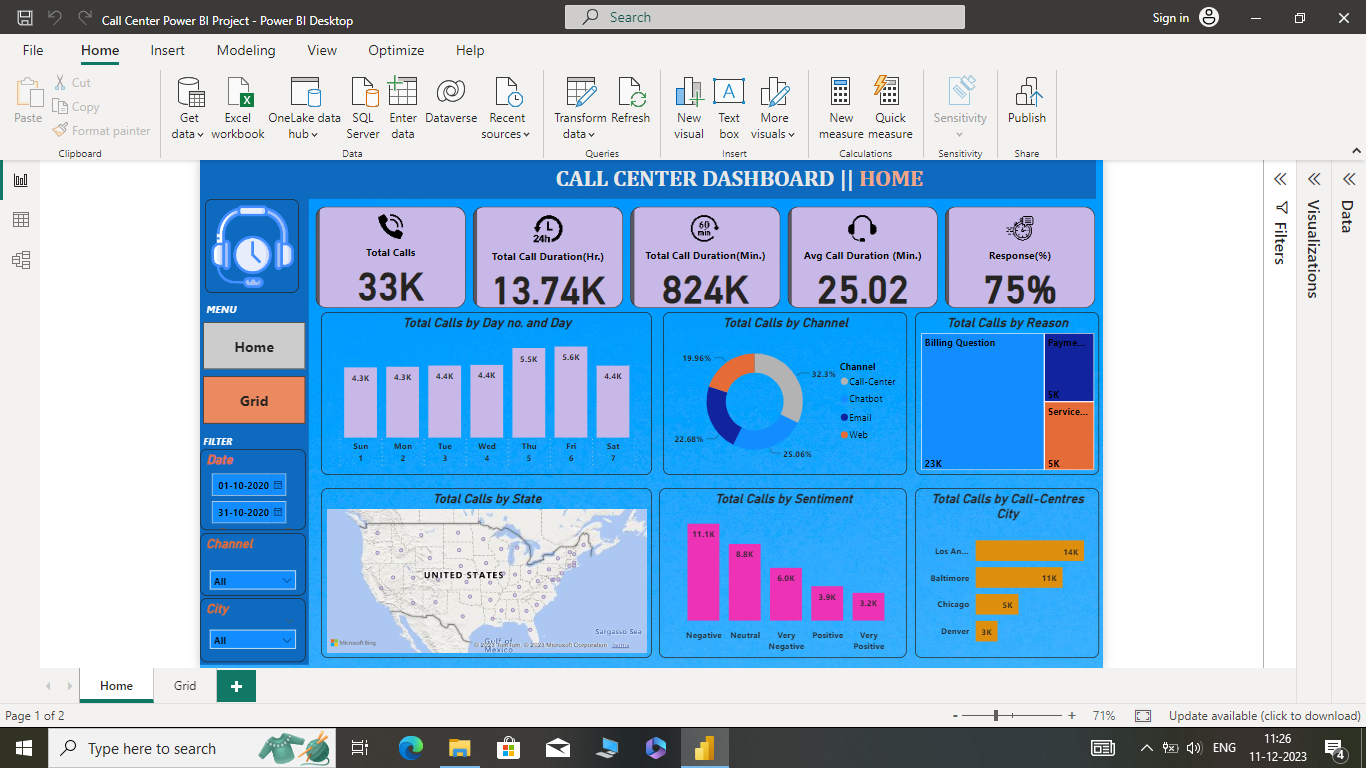

This screenshot's page, from the dashboard's own definition file:
{"tool":"powerbi","page":{"name":"Home","canvas":[1280,720],"ordinal":0},"visuals":[{"type":"cardVisual","fields":{"Data":["Call Center_Call Center.Total Calls","Call Center_Call Center.Total Call Duration(Hr.)","Call Center_Call Center.Total Call Duration(Min.)","Call Center_Call Center.Avg Call Duration (Min.)","Call Center_Call Center.Response(%)"]},"box":[158.7,60.9,1115.4,154.5],"z":0},{"type":"shape","box":[0,55.3,154.5,660.5],"z":1000},{"type":"shape","box":[0,0,1269.9,55.3],"z":2000},{"type":"textbox","box":[498.9,1.4,562.7,53.9],"z":3000},{"type":"columnChart","fields":{"Y":["Call Center_Call Center.Total Calls"],"Category":["Date Table.Day no.","Date Table.Day"]},"box":[171.5,215.4,469.1,231],"z":4000},{"type":"map","fields":{"Category":["Call Center_Call Center.State"],"X":["Call Center_Call Center.Total Calls"]},"box":[171.5,464.9,469.1,240.9],"z":5000},{"type":"treemap","fields":{"Group":["Call Center_Call Center.Reason"],"Values":["Call Center_Call Center.Total Calls"]},"box":[1013.4,215.4,260.8,231],"z":6000},{"type":"donutChart","fields":{"Category":["Call Center_Call Center.Channel"],"Y":["Call Center_Call Center.Total Calls"]},"box":[656.2,215.4,345.8,231],"z":7000},{"type":"columnChart","fields":{"Category":["Call Center_Call Center.Sentiment"],"Y":["Call Center_Call Center.Total Calls"]},"box":[650.6,464.9,351.5,240.9],"z":8000},{"type":"barChart","fields":{"Category":["Call Center_Call Center.Call-Centres City"],"Y":["Call Center_Call Center.Total Calls"]},"box":[1013.4,464.9,260.8,240.9],"z":9000},{"type":"image","box":[7.1,55.3,133.2,133.2],"z":10000},{"type":"slicer","title":"Date","fields":{"Values":["Date Table.Date"]},"box":[0,409.6,150.2,114.8],"z":11000},{"type":"slicer","title":"Channel","fields":{"Values":["Call Center_Call Center.Channel"]},"box":[0,528.7,150.2,89.3],"z":12000},{"type":"slicer","title":"City","fields":{"Values":["Call Center_Call Center.City"]},"box":[0,620.8,150.2,90.7],"z":13000},{"type":"pageNavigator","box":[4.3,229.6,146,144.6],"z":13003},{"type":"textbox","box":[4.3,195.6,70.9,38.3],"z":13004},{"type":"textbox","box":[0,385.5,70.9,38.3],"z":13005}]}

Visuals, with their boxes on the page's 1280x720 design canvas (x1, y1, x2, y2). These are canvas units, not pixel positions in the 1366x768 screenshot, which may show the page scaled, cropped or inside an application window:
cardVisual - Call Center_Call Center.Total Calls x Call Center_Call Center.Total Call Duration(Hr.): x1=159 y1=61 x2=1274 y2=215
shape: x1=0 y1=55 x2=154 y2=716
shape: x1=0 y1=0 x2=1270 y2=55
textbox: x1=499 y1=1 x2=1062 y2=55
columnChart - Call Center_Call Center.Total Calls x Date Table.Day no.: x1=172 y1=215 x2=641 y2=446
map - Call Center_Call Center.State x Call Center_Call Center.Total Calls: x1=172 y1=465 x2=641 y2=706
treemap - Call Center_Call Center.Reason x Call Center_Call Center.Total Calls: x1=1013 y1=215 x2=1274 y2=446
donutChart - Call Center_Call Center.Channel x Call Center_Call Center.Total Calls: x1=656 y1=215 x2=1002 y2=446
columnChart - Call Center_Call Center.Sentiment x Call Center_Call Center.Total Calls: x1=651 y1=465 x2=1002 y2=706
barChart - Call Center_Call Center.Call-Centres City x Call Center_Call Center.Total Calls: x1=1013 y1=465 x2=1274 y2=706
image: x1=7 y1=55 x2=140 y2=188
"Date" slicer: x1=0 y1=410 x2=150 y2=524
"Channel" slicer: x1=0 y1=529 x2=150 y2=618
"City" slicer: x1=0 y1=621 x2=150 y2=712
pageNavigator: x1=4 y1=230 x2=150 y2=374
textbox: x1=4 y1=196 x2=75 y2=234
textbox: x1=0 y1=386 x2=71 y2=424
